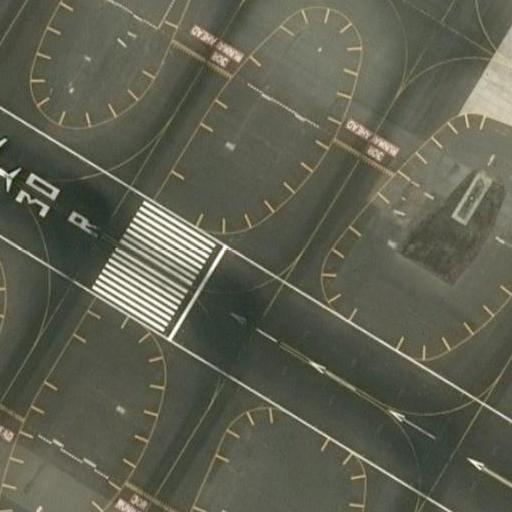Aircraft: (0, 122, 22, 203), (30, 506, 155, 512), (0, 392, 1, 475)
